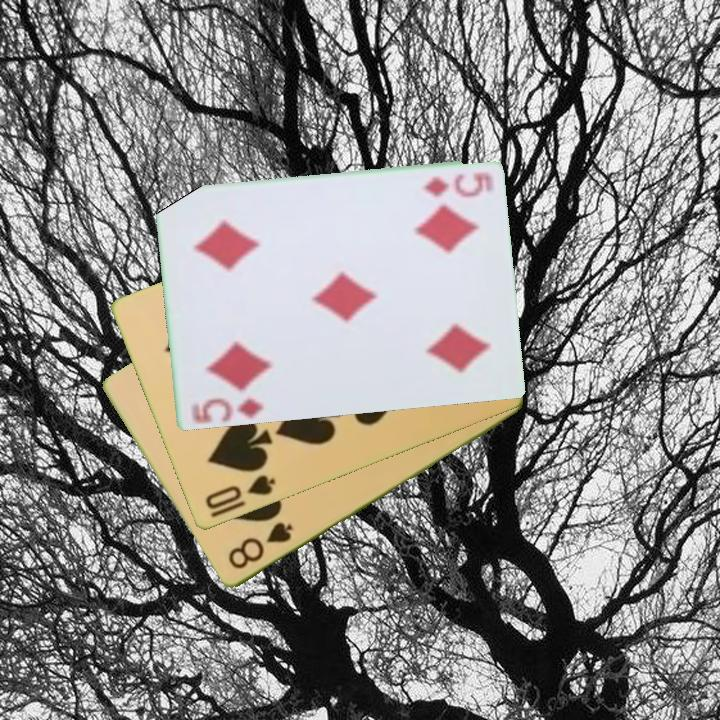10s: (201, 472, 278, 521)
5d: (186, 395, 266, 426), (420, 168, 494, 197)
8s: (224, 518, 296, 573)
